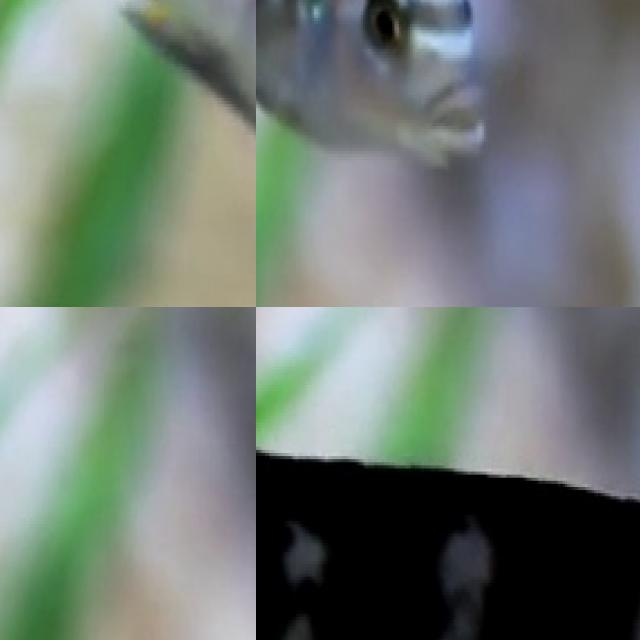fish: (256, 307, 640, 640), (0, 0, 256, 307)
